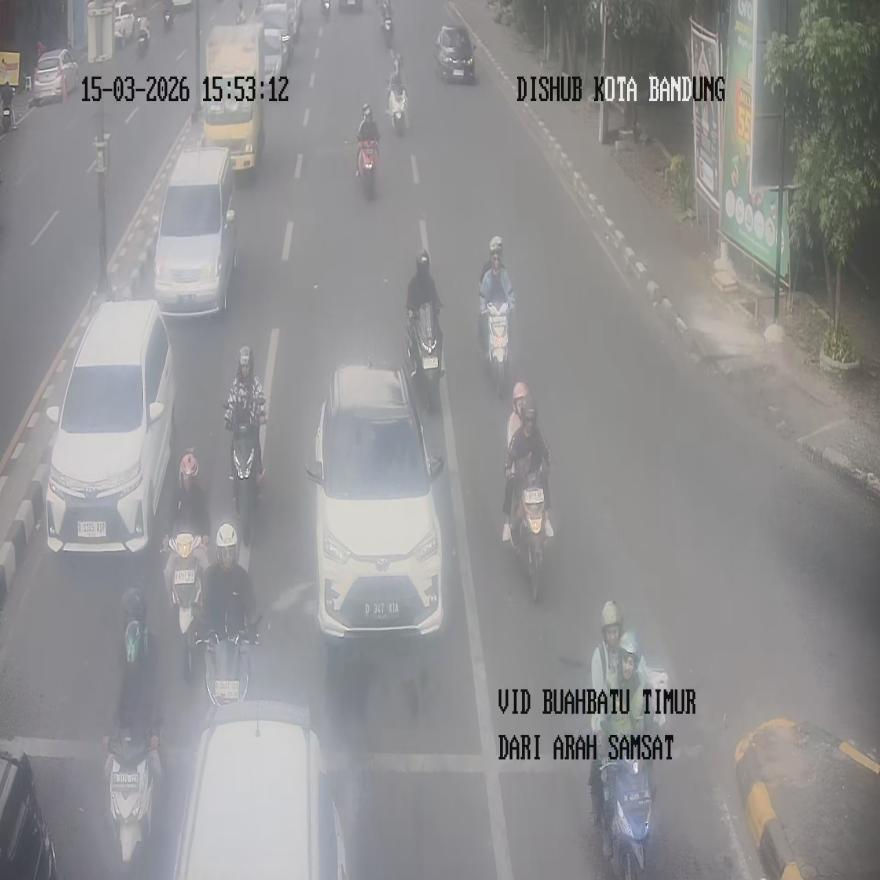Motor: (306, 359, 446, 646), (44, 300, 176, 554), (173, 699, 348, 878), (152, 145, 236, 316), (32, 48, 79, 105)
Truk: (104, 730, 161, 874), (596, 744, 653, 880), (163, 531, 209, 681), (197, 616, 258, 708), (229, 413, 262, 546), (512, 476, 546, 600), (406, 303, 442, 412), (482, 301, 512, 396), (435, 24, 475, 83), (356, 137, 378, 198), (388, 81, 408, 136), (0, 84, 13, 132), (381, 2, 393, 47), (137, 16, 149, 55), (164, 3, 174, 30), (322, 0, 330, 20)
